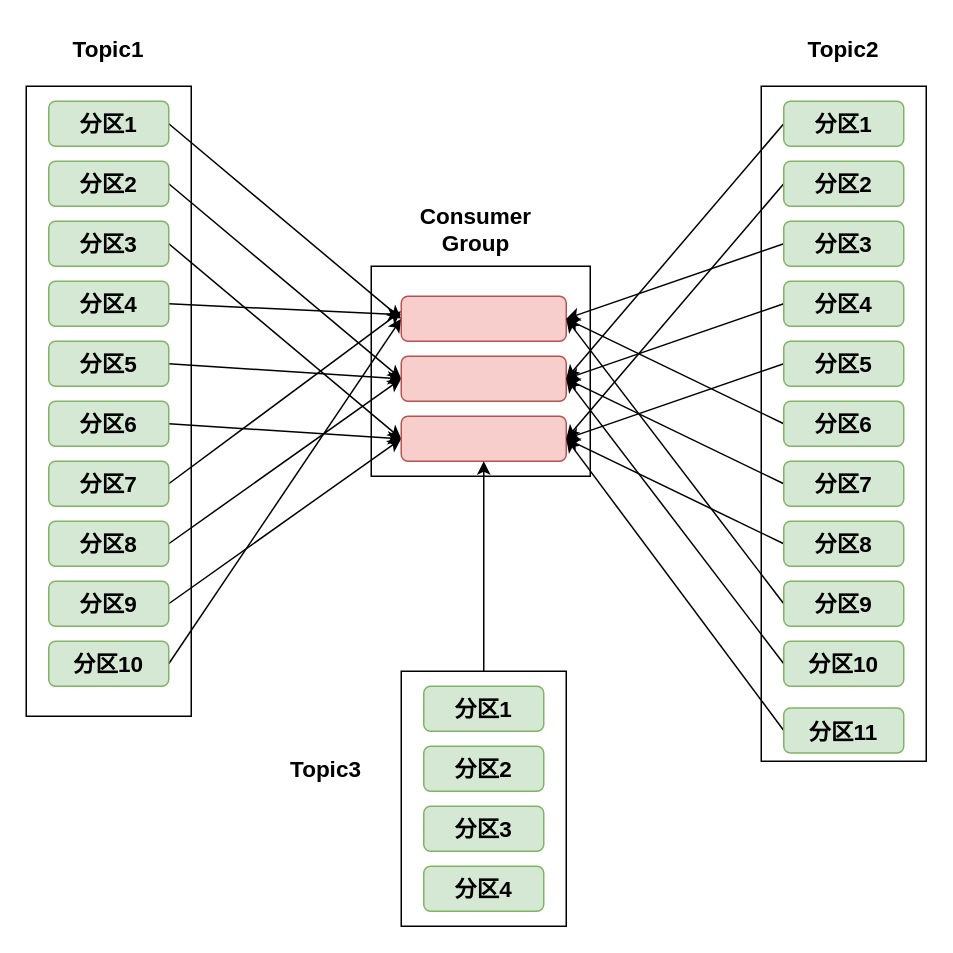
Image size: 953x953. Some labels were removed from this diagram. Each missing label, with the centre of its shape:
"消费者1" goes at [483,318].
"消费者2" goes at [483,378].
"消费者3" goes at [483,438].
